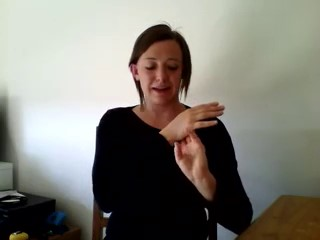M: (163, 91, 229, 191)
